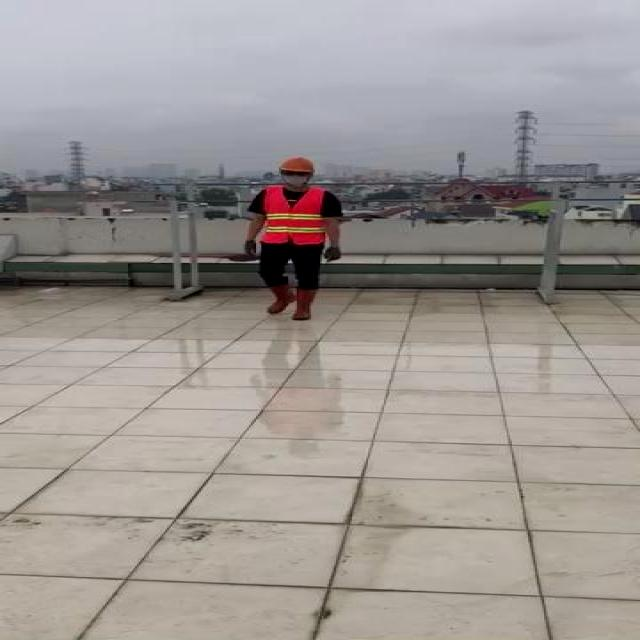boots: (240, 240, 258, 260), (322, 244, 341, 262)
face_mask: (282, 168, 310, 186)
glasses: (281, 169, 313, 177)
hand_glove: (263, 280, 295, 315), (292, 286, 316, 321)
head_helmet: (279, 154, 315, 172)
person: (237, 152, 346, 322)
vest: (265, 187, 325, 245)
